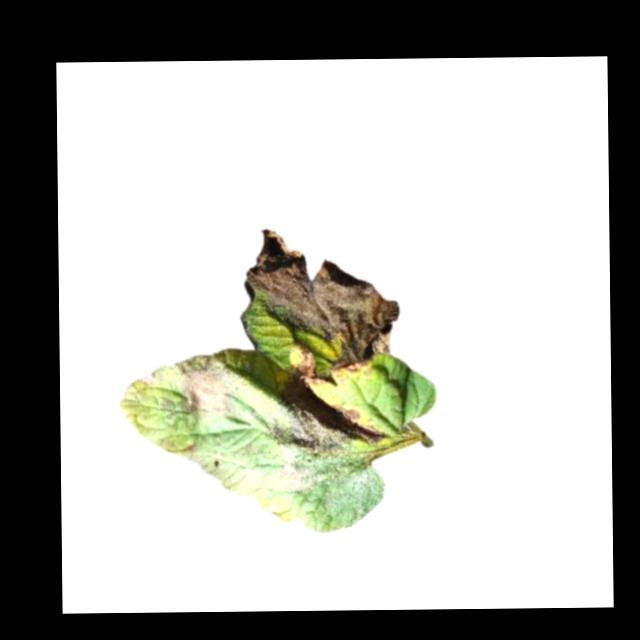Late_blight: (245, 226, 400, 378), (266, 375, 382, 493), (175, 355, 239, 416), (333, 360, 369, 385), (140, 366, 162, 389), (264, 500, 279, 514)
